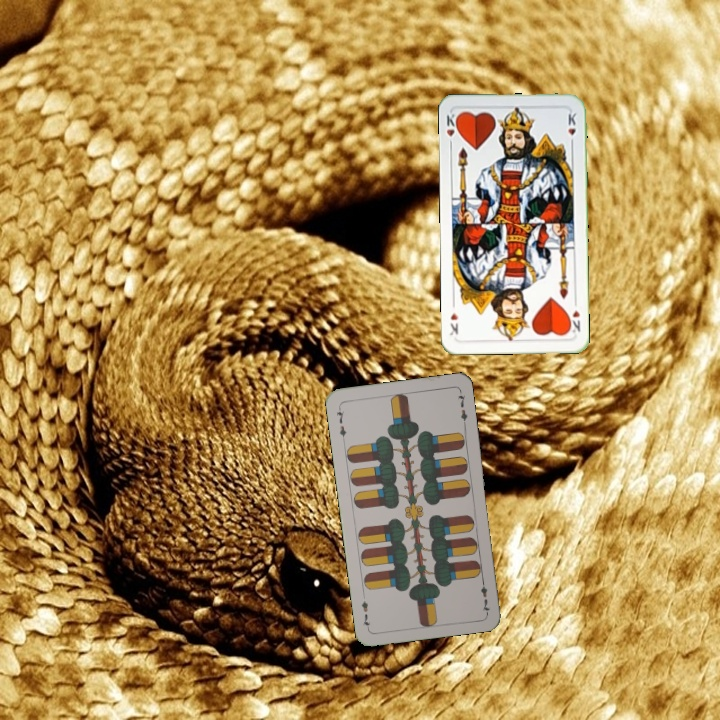E7: (332, 403, 349, 444), (476, 575, 493, 615)
HK: (442, 109, 461, 150), (565, 296, 583, 336)
